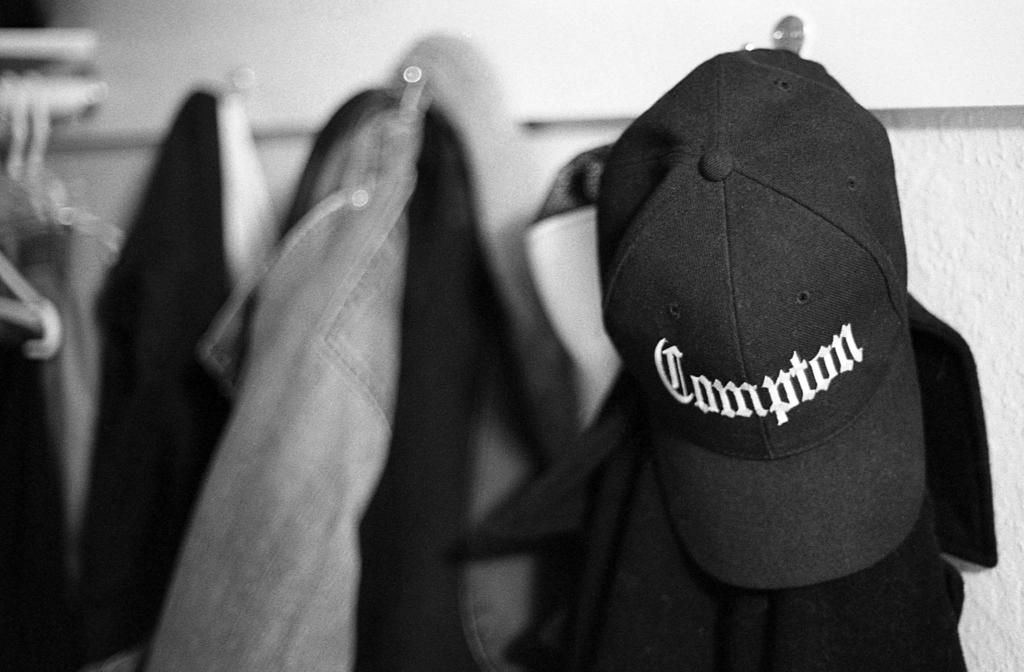Hat: (596, 46, 928, 591)
